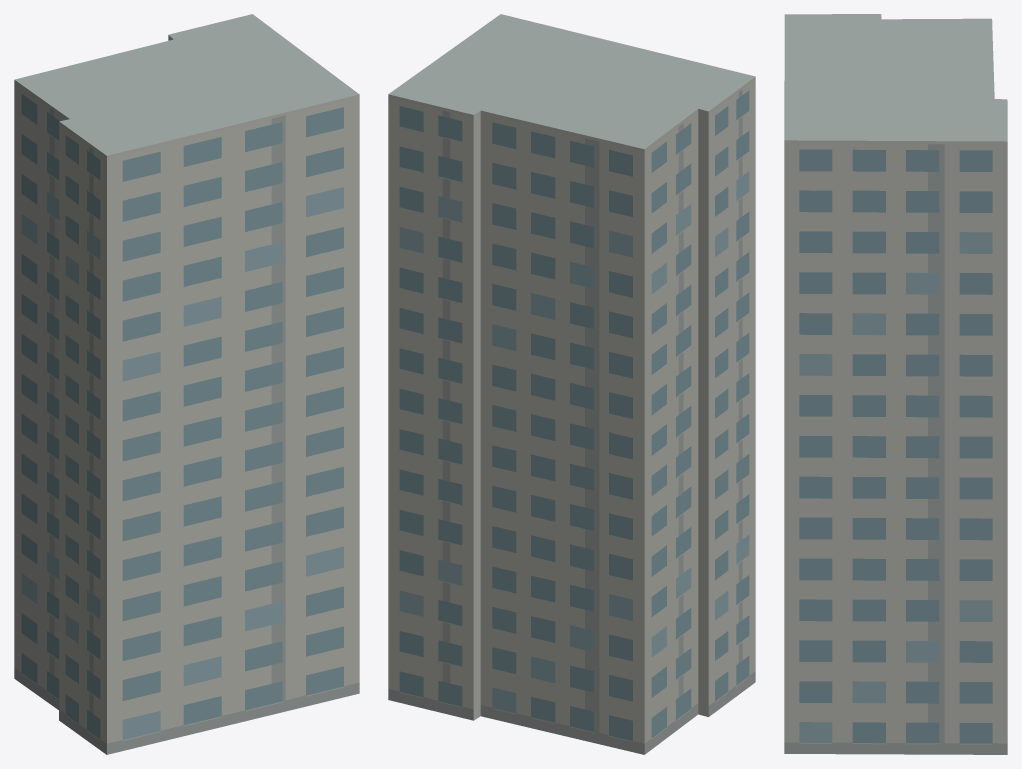
Rendered from residential-d151f8ba-2c65-4650-91d9-5c97904e4e28.glb.
The picture shows the model from 3 angles, left to right: view 1: azimuth 30°, elevation 25°; view 2: azimuth 150°, elevation 25°; view 3: azimuth 270°, elevation 25°; orthographic projection. The views are drawn at different scales.
Visible parts, largest first — view 1: residential-d151f8ba-2c65-4650-91d9-5c97904e4e28.tmp; view 2: residential-d151f8ba-2c65-4650-91d9-5c97904e4e28.tmp; view 3: residential-d151f8ba-2c65-4650-91d9-5c97904e4e28.tmp.
Part boxes in pixels (bbox=[...]): residential-d151f8ba-2c65-4650-91d9-5c97904e4e28.tmp: bbox=[14, 14, 359, 754]; residential-d151f8ba-2c65-4650-91d9-5c97904e4e28.tmp: bbox=[388, 14, 755, 754]; residential-d151f8ba-2c65-4650-91d9-5c97904e4e28.tmp: bbox=[784, 14, 1007, 754].
Bounding box in the file's own units: 21.85 × 49 × 16.21.
